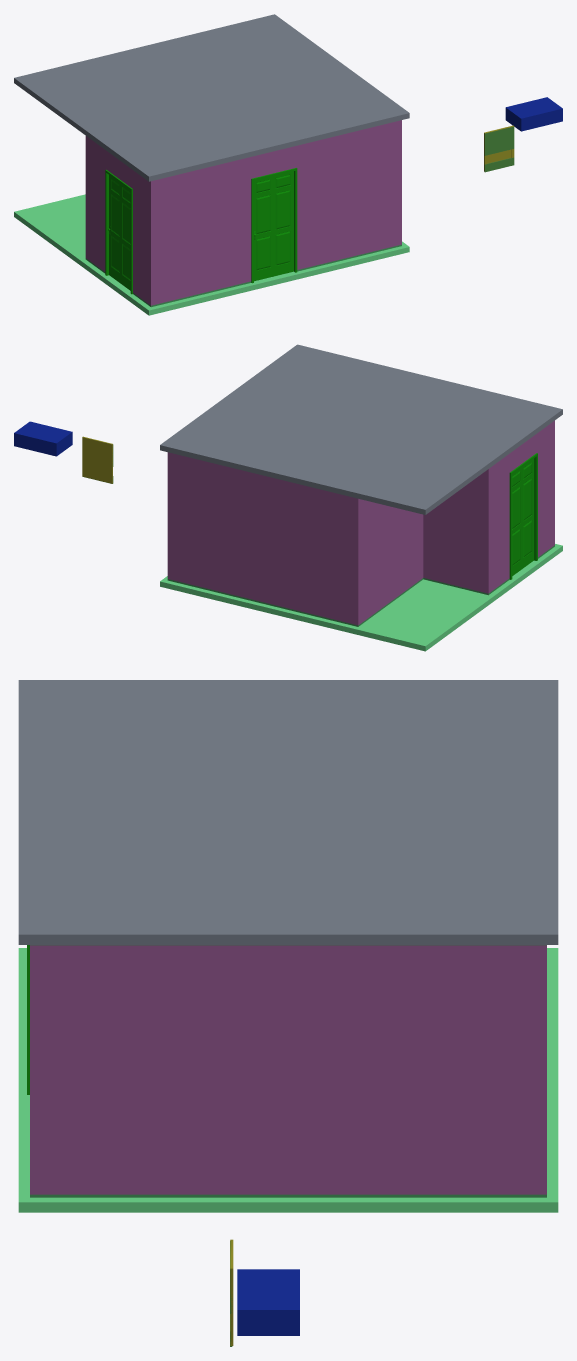
Rendered from FloorPlan5.fbx.
3 renders of one model, top to bottom at view 1: azimuth 30°, elevation 25°; view 2: azimuth 150°, elevation 25°; view 3: azimuth 270°, elevation 25°, orthographic. The views are drawn at different scales.
Visible parts, largest first — view 1: Ceiling, StandardWallSize, Floor, StandardDoor1, StandardDoor1 (2), StandardSinkSize1, StandardDoorFrame1, StandardDoorFrame1 (2), DrawerBase2; view 2: StandardWallSize, Ceiling, Floor, StandardDoor1 (2), StandardSinkSize1, CabinetDoorBase3, StandardDoorFrame1 (2); view 3: Ceiling, StandardWallSize, Floor, StandardSinkSize1.
Boxes of the visible parts, box(x1,y1,x2,y2) form: Ceiling: box(14, 14, 409, 181); StandardWallSize: box(85, 120, 401, 307); Floor: box(14, 194, 409, 315); StandardDoor1: box(254, 171, 293, 281); StandardDoor1 (2): box(109, 175, 130, 290); StandardSinkSize1: box(505, 97, 562, 131); StandardDoorFrame1: box(251, 168, 297, 283); StandardDoorFrame1 (2): box(105, 169, 132, 294); DrawerBase2: box(484, 133, 514, 155); StandardWallSize: box(167, 420, 554, 626); Ceiling: box(160, 344, 562, 514); Floor: box(160, 544, 562, 651); StandardDoor1 (2): box(512, 458, 533, 575); StandardSinkSize1: box(14, 421, 72, 456); CabinetDoorBase3: box(82, 437, 112, 483); StandardDoorFrame1 (2): box(509, 453, 537, 579); Ceiling: box(18, 680, 558, 944); StandardWallSize: box(30, 945, 546, 1197); Floor: box(18, 948, 558, 1212); StandardSinkSize1: box(237, 1269, 299, 1335).
Size of the model in its own units: 953 by 270 by 475.
